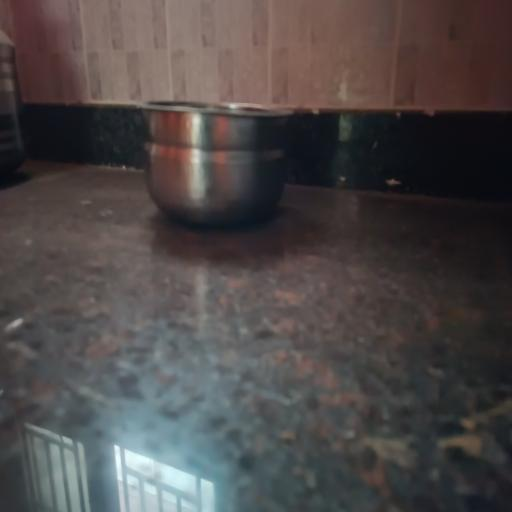vessel: (140, 101, 292, 226)
